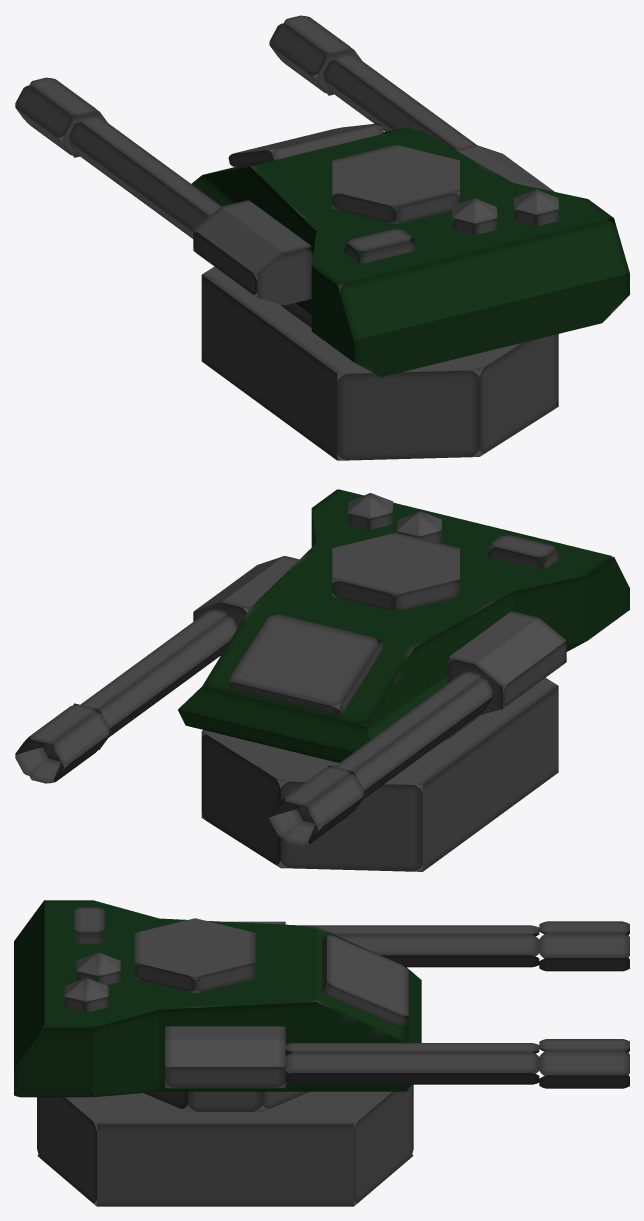
File: LowPoly Turret.fbx
3 renders of one model, top to bottom at view 1: azimuth 30°, elevation 25°; view 2: azimuth 150°, elevation 25°; view 3: azimuth 270°, elevation 25°, orthographic. The views are drawn at different scales.
Parts seen in each view (by area): view 1: cuboid, cylinder, cuboid_1, cylinder_4, cylinder_2, cylinder_5, cylinder_3, cylinder_6, cuboid_4, cuboid_3, cuboid_5, sphere (+1 smaller); view 2: cuboid, cylinder, cuboid_4, cylinder_4, cylinder_2, cylinder_5, cuboid_1, cylinder_3, cylinder_6, cuboid_5, cuboid_3, sphere (+1 smaller); view 3: cuboid, cylinder, cylinder_5, cylinder_2, cuboid_5, cylinder_4, cuboid_4, cylinder_3, cylinder_6, cylinder_1, sphere, sphere_1 (+1 smaller).
Boxes of the visible parts, x1,y1,x2,y2 form: cuboid: [191, 126, 629, 376]; cylinder: [201, 266, 558, 460]; cuboid_1: [193, 200, 312, 305]; cylinder_4: [332, 145, 459, 224]; cylinder_2: [67, 115, 221, 238]; cylinder_5: [321, 53, 476, 149]; cylinder_3: [15, 77, 107, 157]; cylinder_6: [269, 15, 361, 95]; cuboid_4: [228, 123, 383, 166]; cuboid_3: [344, 229, 415, 264]; cuboid_5: [455, 144, 554, 191]; sphere: [513, 189, 558, 226]; cuboid: [178, 489, 629, 762]; cylinder: [201, 677, 558, 871]; cuboid_4: [228, 614, 383, 714]; cylinder_4: [332, 532, 459, 610]; cylinder_2: [335, 671, 494, 799]; cylinder_5: [80, 610, 237, 737]; cuboid_1: [447, 611, 566, 715]; cylinder_3: [269, 765, 366, 845]; cylinder_6: [15, 703, 111, 783]; cuboid_5: [193, 556, 299, 627]; cuboid_3: [488, 535, 559, 570]; sphere: [348, 493, 393, 529]; cuboid: [14, 900, 421, 1097]; cylinder: [37, 1084, 413, 1206]; cylinder_5: [285, 1043, 539, 1084]; cylinder_2: [302, 925, 539, 967]; cuboid_5: [165, 1026, 285, 1088]; cylinder_4: [134, 918, 255, 993]; cuboid_4: [322, 935, 408, 1026]; cylinder_3: [539, 921, 629, 971]; cylinder_6: [539, 1039, 629, 1088]; cylinder_1: [144, 1091, 309, 1111]; sphere: [64, 978, 108, 1012]; sphere_1: [76, 952, 120, 985].
Size of the model in its own units: 70 by 49.37 by 128.
Materials: 1 (1 with a texture image).
